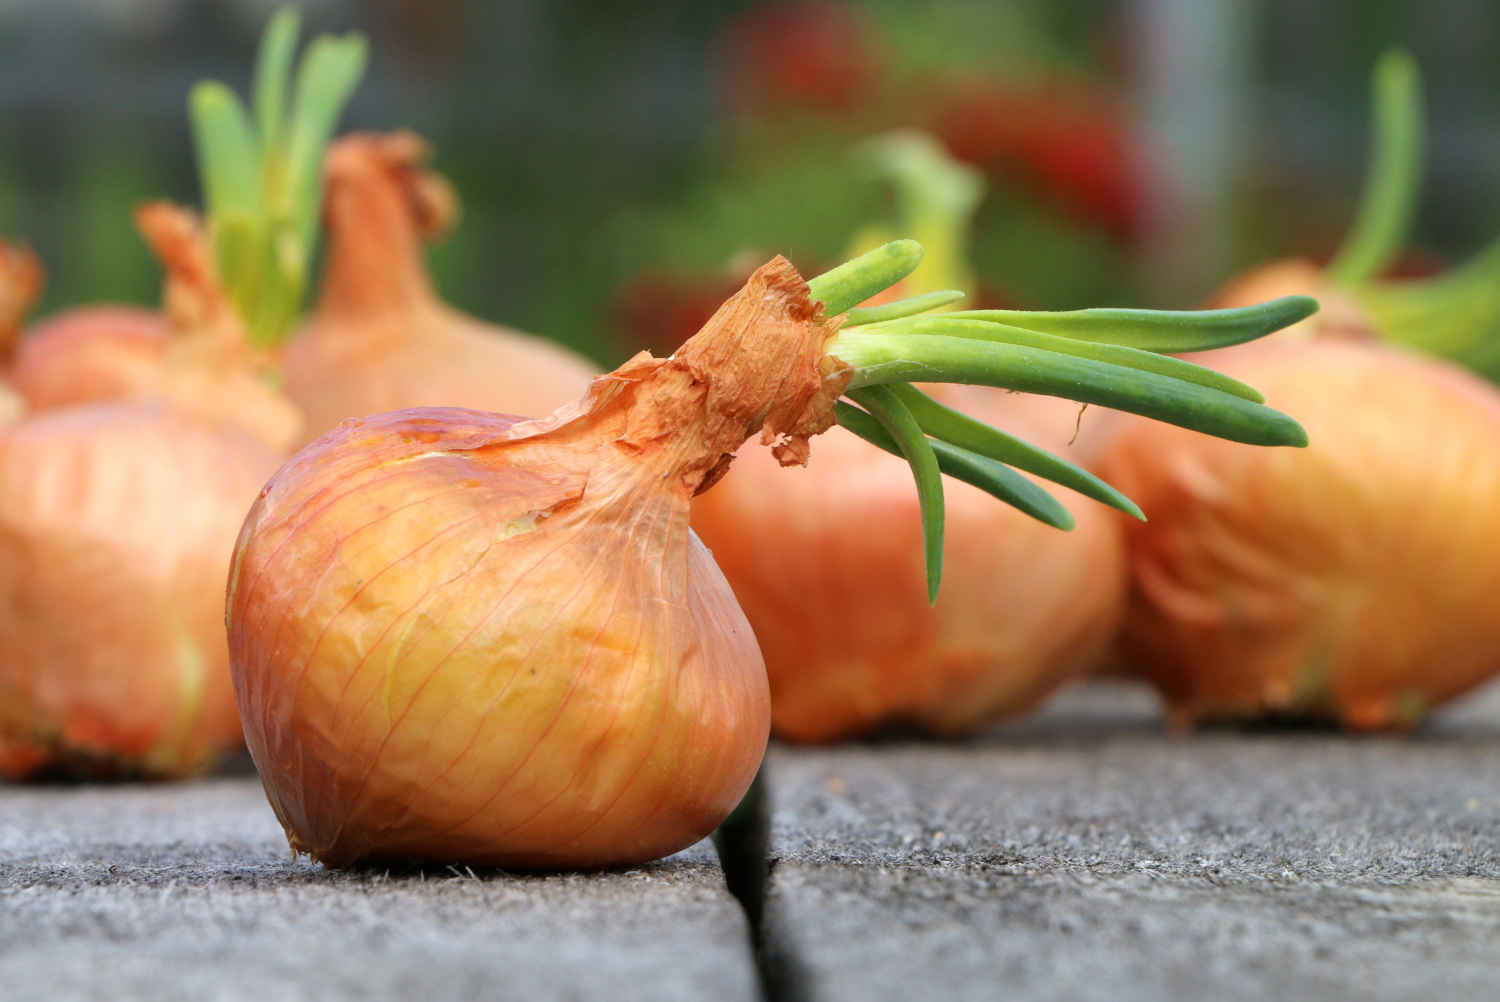onion: (219, 238, 1323, 883)
